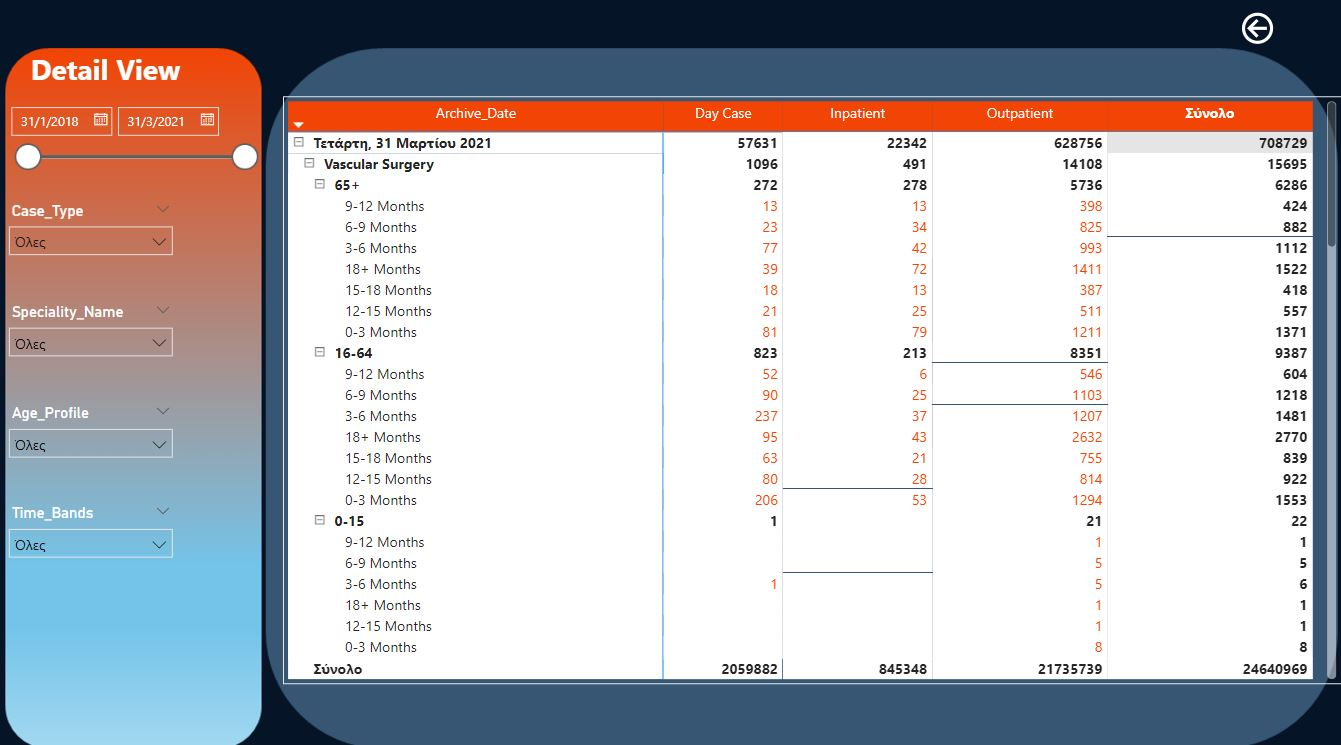

Layout of this report page (visuals, bound fields, positions):
{"tool":"powerbi","page":{"name":"Detail","canvas":[1280,720],"ordinal":1},"visuals":[{"type":"slicer","fields":{"Values":["All_Data.Archive_Date"]},"box":[0,96,256,96],"z":0},{"type":"slicer","fields":{"Values":["All_Data.Case_Type"]},"box":[0,192,176,64],"z":1000},{"type":"slicer","fields":{"Values":["All_Data.Speciality_Name"]},"box":[0,288,176,64],"z":2000},{"type":"textbox","box":[26.2,47.6,159.5,96.4],"z":3000},{"type":"slicer","fields":{"Values":["All_Data.Age_Profile"]},"box":[0,384,176,64],"z":4000},{"type":"slicer","fields":{"Values":["All_Data.Time_Bands"]},"box":[0,480,176,64],"z":5000},{"type":"pivotTable","fields":{"Columns":["All_Data.Case_Type"],"Values":["Sum(All_Data.Total)"],"Rows":["All_Data.Archive_Date","All_Data.Speciality_Name","All_Data.Age_Profile","All_Data.Time_Bands"]},"box":[272,96,1008,560],"z":6000},{"type":"actionButton","box":[1180.3,12,99.7,39.6],"z":7000}]}

Visuals, with their boxes on the page's 1280x720 design canvas (x1, y1, x2, y2). These are canvas units, not pixel positions in the 1341x745 screenshot, which may show the page scaled, cropped or inside an application window:
slicer - All_Data.Archive_Date: 0:96:256:192
slicer - All_Data.Case_Type: 0:192:176:256
slicer - All_Data.Speciality_Name: 0:288:176:352
textbox: 26:48:186:144
slicer - All_Data.Age_Profile: 0:384:176:448
slicer - All_Data.Time_Bands: 0:480:176:544
pivotTable - All_Data.Case_Type x Sum(All_Data.Total): 272:96:1280:656
actionButton: 1180:12:1280:52
